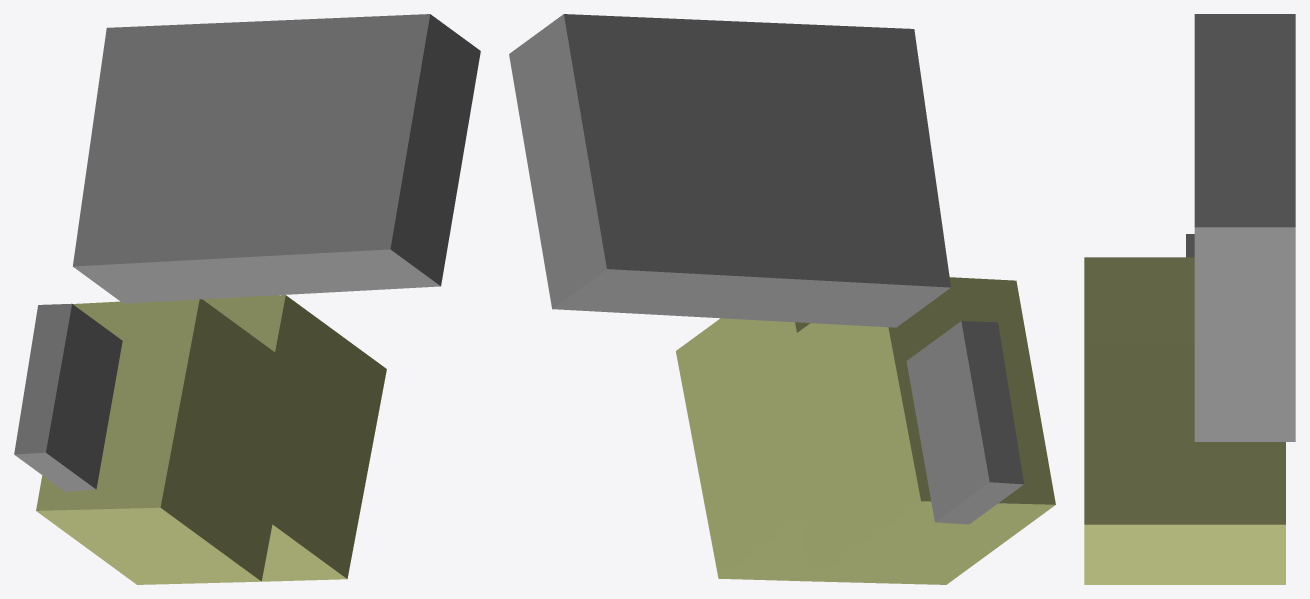
3 renders of one model, left to right at view 1: azimuth 30°, elevation 25°; view 2: azimuth 150°, elevation 25°; view 3: azimuth 270°, elevation 25°, orthographic. The views are drawn at different scales.
Parts seen in each view (by area): view 1: 0_1_2_0_1_3_0_3_2_1; view 2: 0_1_2_0_1_3_0_3_2_1; view 3: 0_1_2_0_1_3_0_3_2_1.
Boxes of the visible parts, x1,y1,x2,y2 form: 0_1_2_0_1_3_0_3_2_1: (14,14,480,584); 0_1_2_0_1_3_0_3_2_1: (509,14,1055,584); 0_1_2_0_1_3_0_3_2_1: (1084,14,1295,584).
Size of the model in its own units: 14.4 by 16.58 by 6.28.
